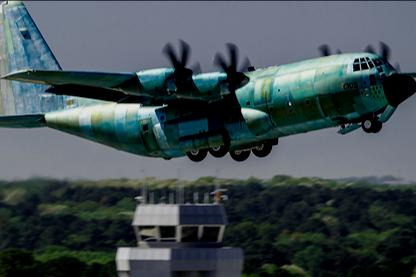Be200: (1, 0, 415, 164)
